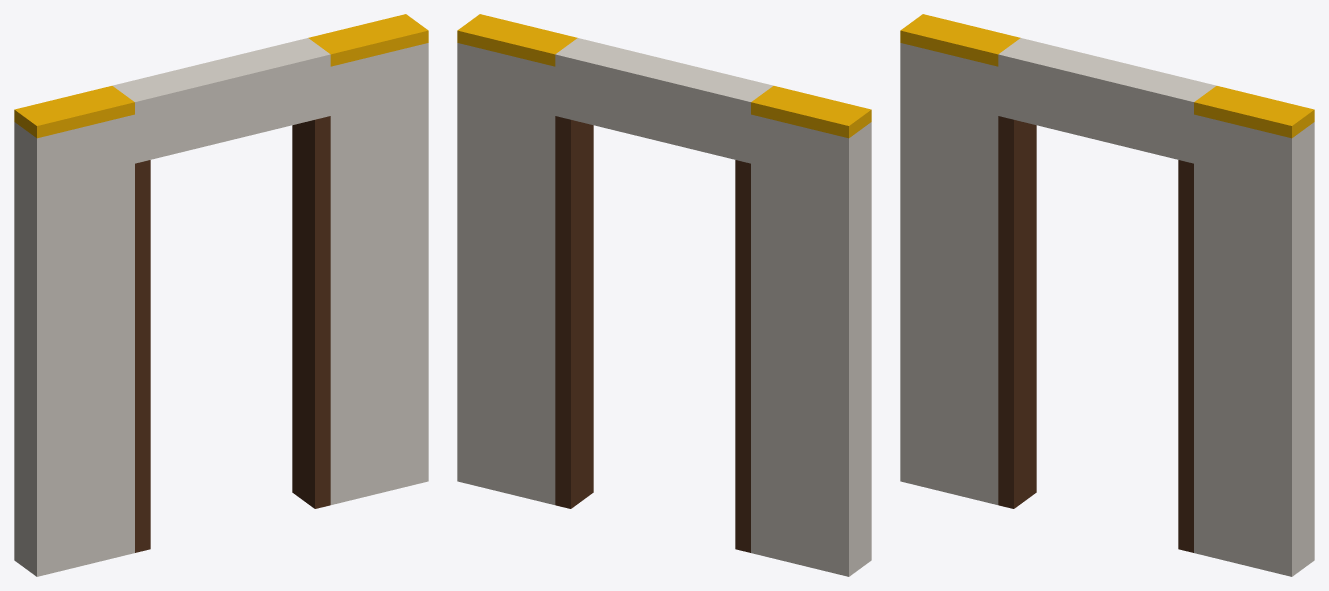
File: raum_wand_tuer.glb
3 renders of one model, left to right at view 1: azimuth 30°, elevation 25°; view 2: azimuth 150°, elevation 25°; view 3: azimuth 330°, elevation 25°, orthographic.
Parts seen in each view (by area): view 1: raum_wand_tuer; view 2: raum_wand_tuer; view 3: raum_wand_tuer.
Boxes of the visible parts, x1,y1,x2,y2 form: raum_wand_tuer: (14, 14, 428, 576); raum_wand_tuer: (457, 14, 871, 576); raum_wand_tuer: (900, 14, 1314, 576).
Size of the model in its own units: 2 by 2.2 by 0.2.
